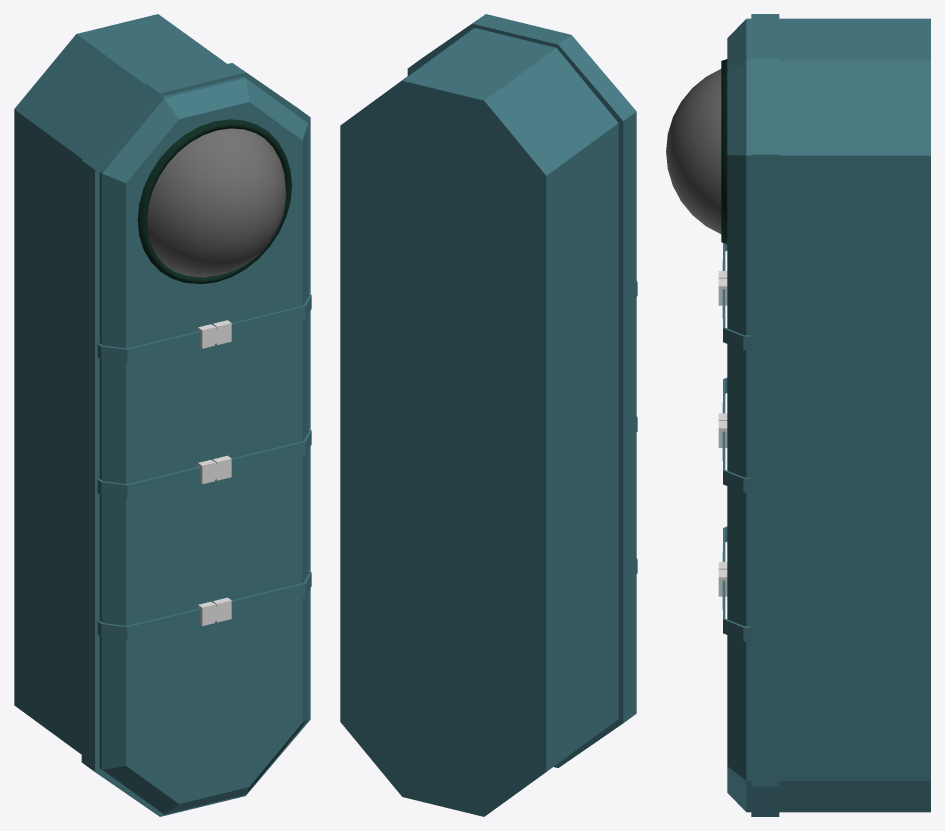
The model's file is parent_test2.fbx.
3 renders of one model, left to right at view 1: azimuth 30°, elevation 25°; view 2: azimuth 150°, elevation 25°; view 3: azimuth 270°, elevation 25°, orthographic. The views are drawn at different scales.
Parts seen in each view (by area): view 1: cube.098, cube.005, cube.041, ball.004, circle.004, cube.052, cube.042, cube.057, cube.053, cube.058, cube.043, cube.044 (+5 smaller); view 2: cube.005, cube.041; view 3: cube.005, cube.041, cube.098, ball.004, circle.004.
Part boxes in pixels (x1,y1,x2,y2): cube.098: (99, 76, 308, 814); cube.005: (14, 14, 226, 754); cube.041: (81, 63, 310, 816); ball.004: (147, 128, 286, 277); circle.004: (137, 119, 291, 283); cube.052: (97, 428, 311, 489); cube.042: (97, 293, 311, 354); cube.057: (97, 570, 311, 631); cube.053: (97, 436, 311, 493); cube.058: (97, 578, 311, 635); cube.043: (97, 300, 311, 358); cube.044: (97, 305, 311, 362); cube.005: (340, 28, 618, 816); cube.041: (407, 14, 636, 767); cube.005: (779, 18, 930, 812); cube.041: (751, 14, 779, 816); cube.098: (727, 18, 751, 812); ball.004: (666, 69, 721, 233); circle.004: (721, 59, 727, 243).
Size of the model in its own units: 475 by 1524 by 482.
